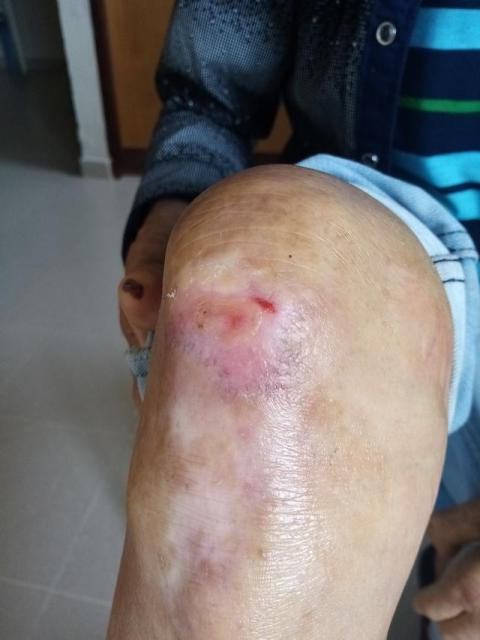wound: (170, 275, 302, 402)
